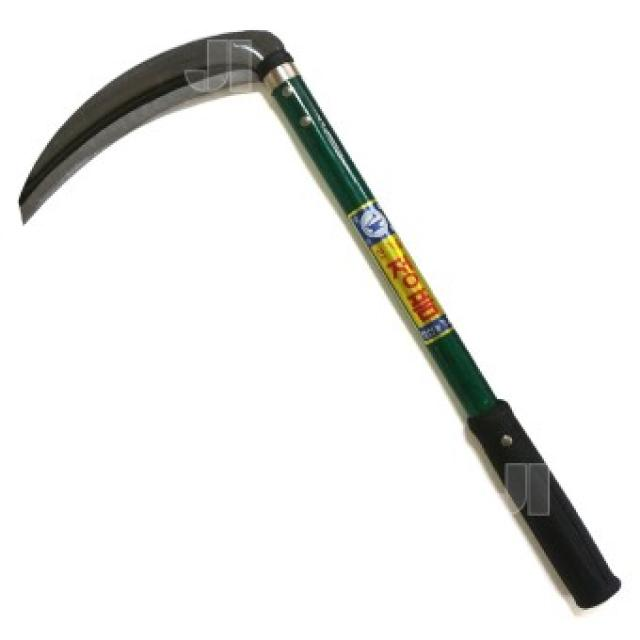sickle: (23, 7, 624, 638)
